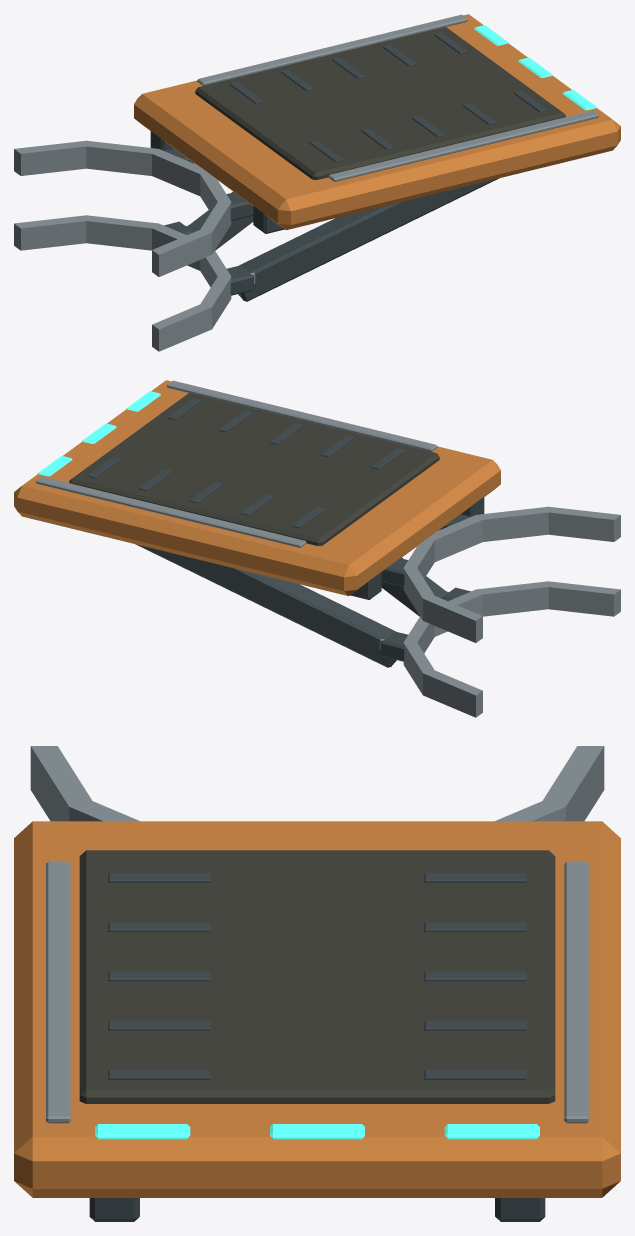
Rendered from e3-maintenance-perch.glb.
3 views of the same model, one above another, from view 1: azimuth 30°, elevation 25°; view 2: azimuth 150°, elevation 25°; view 3: azimuth 270°, elevation 25° (orthographic). The views are drawn at different scales.
Visible parts, largest first — view 1: E3 bolt-on maintenance perch; view 2: E3 bolt-on maintenance perch; view 3: E3 bolt-on maintenance perch.
Boxes of the visible parts, x1=… form: E3 bolt-on maintenance perch: x1=14, y1=14, x2=620, y2=351; E3 bolt-on maintenance perch: x1=14, y1=380, x2=620, y2=717; E3 bolt-on maintenance perch: x1=14, y1=746, x2=620, y2=1221.
Bounding box in the file's own units: 2.26 × 0.6581 × 1.3.
